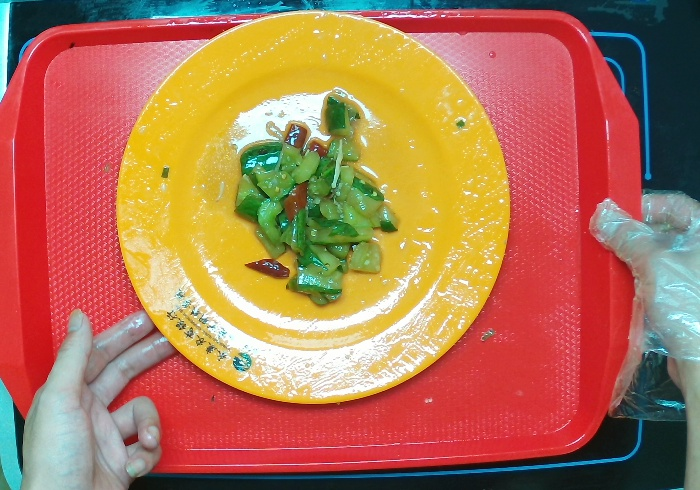YKMZ-Ju_Se_Mian_Pan: (111, 2, 517, 407)
